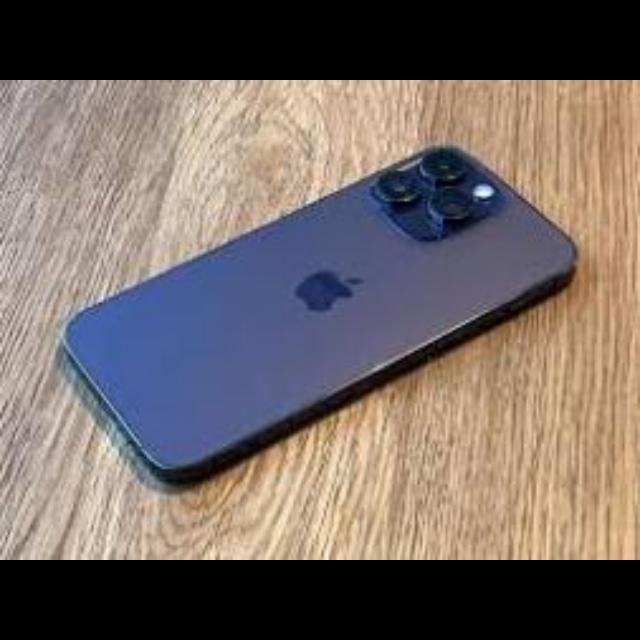Phone: (56, 81, 592, 483)
